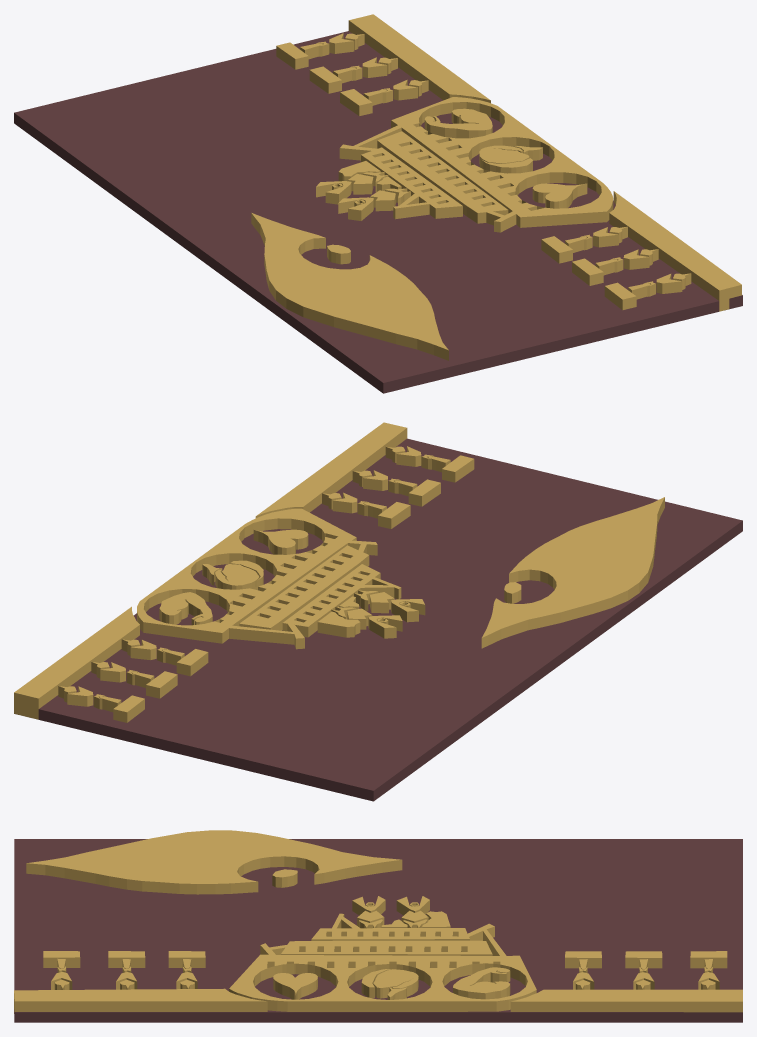
File: fresque_2.fbx
3 views of the same model, one above another, from view 1: azimuth 30°, elevation 25°; view 2: azimuth 150°, elevation 25°; view 3: azimuth 270°, elevation 25° (orthographic).
Parts seen in each view (by area): view 1: Plane.001, Cube.006; view 2: Plane.001, Cube.006; view 3: Plane.001, Cube.006.
Boxes of the visible parts, box(x1,y1,x2,y2) form: Plane.001: box(14, 31, 742, 393); Cube.006: box(251, 14, 741, 360); Plane.001: box(38, 438, 742, 801); Cube.006: box(14, 422, 664, 722); Plane.001: box(14, 839, 742, 1022); Cube.006: box(14, 830, 742, 1013).
Bounding box in the file's own units: 281 × 15.92 × 500.
